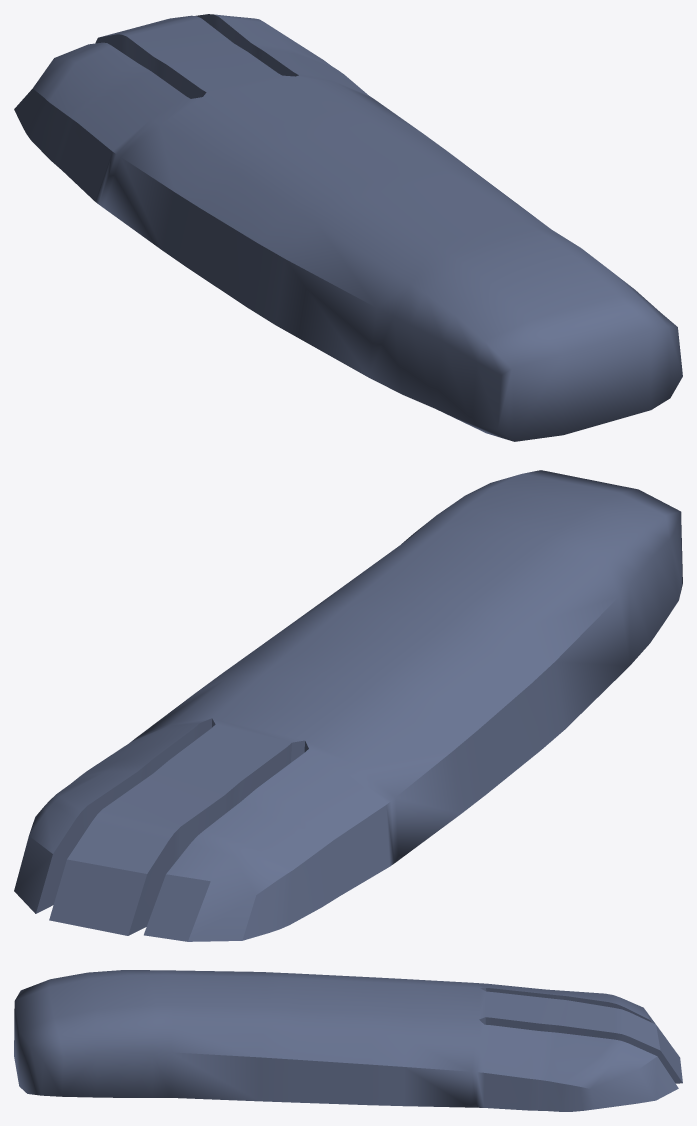
File: handsrabbit.fbx
3 views of the same model, one above another, from view 1: azimuth 30°, elevation 25°; view 2: azimuth 150°, elevation 25°; view 3: azimuth 270°, elevation 25° (orthographic). The views are drawn at different scales.
Visible parts, largest first — view 1: pasted__pCube3; view 2: pasted__pCube3; view 3: pasted__pCube3.
Boxes of the visible parts, bbox=[...] form: pasted__pCube3: bbox=[14, 14, 682, 441]; pasted__pCube3: bbox=[14, 470, 682, 941]; pasted__pCube3: bbox=[14, 970, 682, 1111].
Bounding box in the file's own units: 2.22 × 0.9129 × 6.68.
